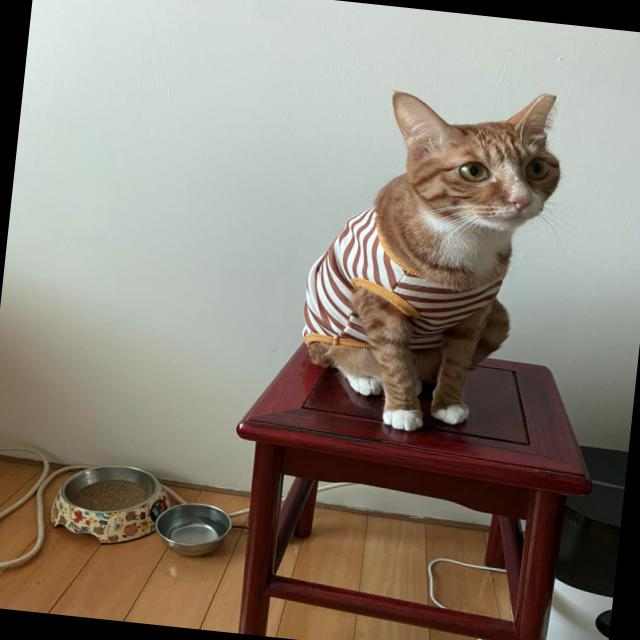cat3: (290, 66, 576, 446)
